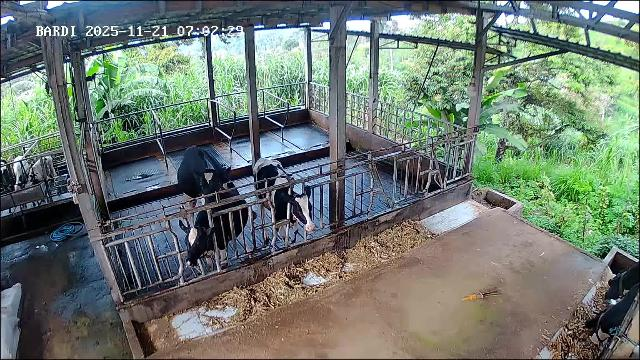mounting: (178, 146, 231, 223)
